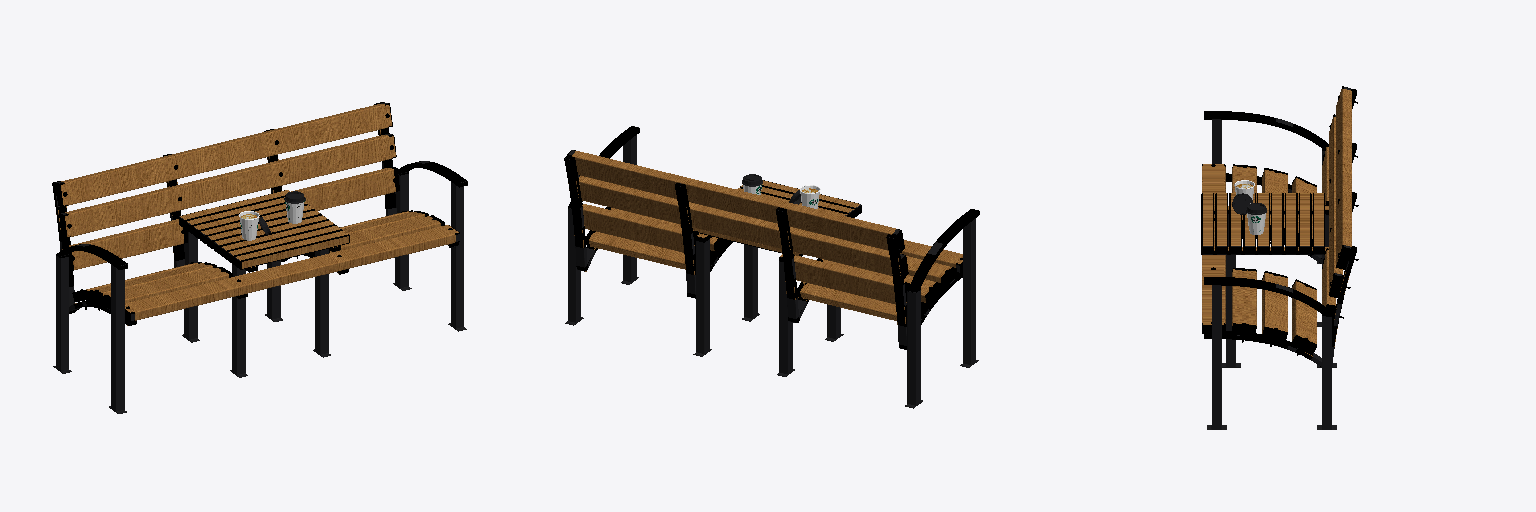
3 views of the same model, side by side, from view 1: azimuth 30°, elevation 25°; view 2: azimuth 150°, elevation 25°; view 3: azimuth 270°, elevation 25° (orthographic).
Size of the model in its own units: 2.62 by 1.28 by 1.02.
23 materials, 5 textured.